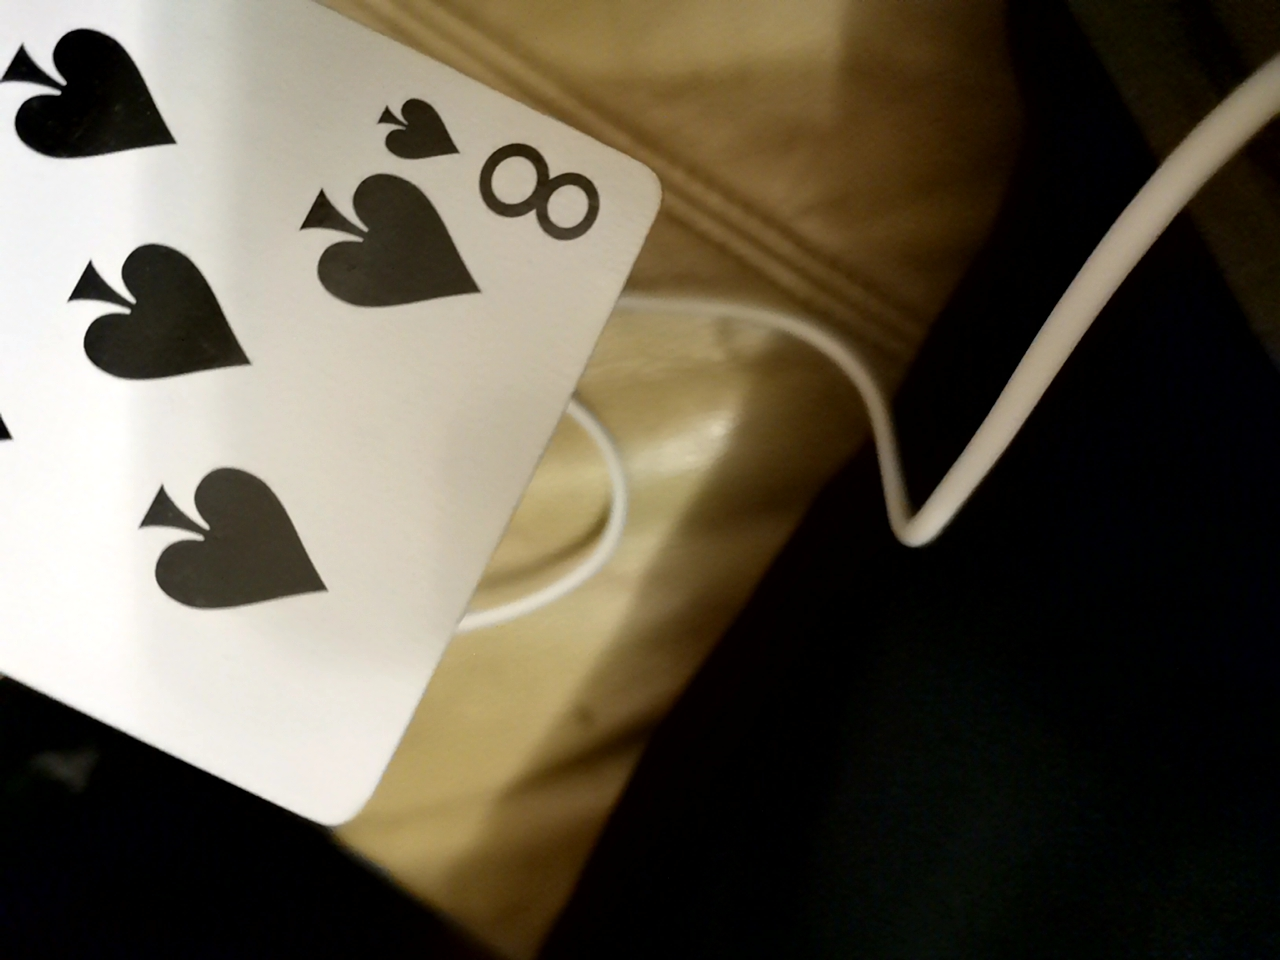ht 8: (13, 0, 701, 856)
